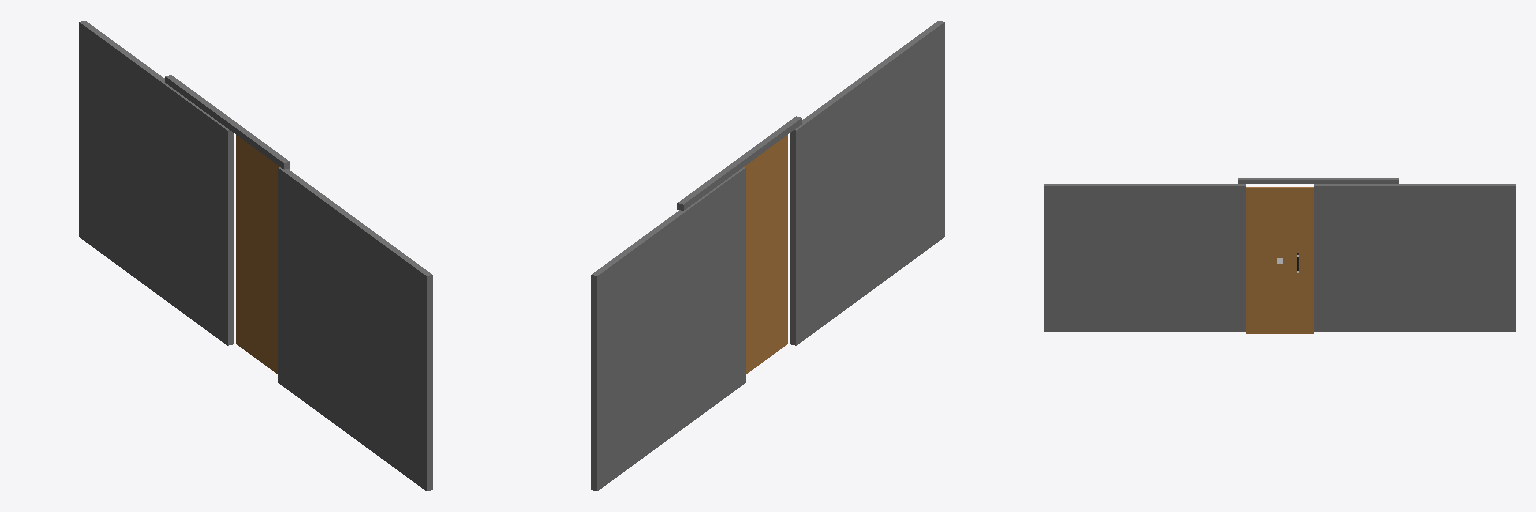
robot.urdf — sliding_door:
<?xml version="1.0"?>
<!-- Sliding door: static rail + leaf (prismatic) + fixed pull handle.
     Primitives only (box + cylinder). Import to USD in Isaac Sim.
     - Set slide_frame as FIXED base link on import.
     - Tune resistance via the PhysX joint drive/damping after import
       (this is your "environment stiffness" to randomize).
     Convention: door face normal = +X, slide direction along +Y,
     height along +Z. No latch (handle is rigid).
     Handle diameter unified to 28mm (same as revolute_door's handle_lever)
     for a single gripper geometry across both door types. The grip bar is
     no longer floating in space - it's connected to the door face by two
     26mm standoff rods (top + bottom), like a real bar/pull handle. -->
<robot name="sliding_door">

  <!-- ===================== RAIL / FRAME (static) ===================== -->
  <link name="slide_frame">
    <visual>
      <origin xyz="0 0.9 2.05" rpy="0 0 0"/>
      <geometry><box size="0.06 2.0 0.06"/></geometry>
      <material name="frame_grey"><color rgba="0.5 0.5 0.5 1"/></material>
    </visual>
    <collision>
      <origin xyz="0 0.9 2.05" rpy="0 0 0"/>
      <geometry><box size="0.06 2.0 0.06"/></geometry>
    </collision>
    <inertial>
      <origin xyz="0 0.9 2.05"/>
      <mass value="30"/>
      <inertia ixx="10" iyy="0.02" izz="10" ixy="0" ixz="0" iyz="0"/>
    </inertial>
  </link>

  <!-- ===================== DOOR LEAF ===================== -->
  <link name="door_leaf">
    <visual>
      <origin xyz="0 0.425 1.0" rpy="0 0 0"/>
      <geometry><box size="0.04 0.85 2.0"/></geometry>
      <material name="door_wood"><color rgba="0.72 0.52 0.30 1"/></material>
    </visual>
    <collision>
      <origin xyz="0 0.425 1.0" rpy="0 0 0"/>
      <geometry><box size="0.04 0.85 2.0"/></geometry>
    </collision>
    <inertial>
      <origin xyz="0 0.425 1.0"/>
      <mass value="15"/>
      <inertia ixx="5.90" iyy="5.00" izz="0.91" ixy="0" ixz="0" iyz="0"/>
    </inertial>
  </link>

  <!-- Slide: horizontal prismatic axis (Y). This is what "opens". -->
  <joint name="slide_joint" type="prismatic">
    <parent link="slide_frame"/>
    <child link="door_leaf"/>
    <origin xyz="0.07 0 0" rpy="0 0 0"/>
    <axis xyz="0 1 0"/>
    <limit lower="0.0" upper="1.0" effort="200" velocity="1.0"/>
    <dynamics damping="8.0" friction="0.2"/>
  </joint>

  <!-- ===================== FIXED PULL HANDLE (drska) ===================== -->
  <!-- Vertical grip bar (radius 0.014 = 28mm dia, same as revolute door's
       handle_lever) standing off the door face along +X, held by two
       horizontal standoff rods (radius 0.013 = 26mm dia) connecting it to
       the door surface at local x=0 (= door_leaf front face, since this
       link's own origin coincides with the handle_fixed joint origin
       below). All three cylinders are collision-enabled primitives on the
       SAME rigid link (handle) - physically one welded assembly, no need
       for separate links/joints between grip bar and standoffs. -->
  <link name="handle">
    <!-- grip bar: vertical (default cylinder axis = local Z), centered on
         the handle_fixed joint height, offset 0.07m out from the door -->
    <visual>
      <origin xyz="0.07 0 0" rpy="0 0 0"/>
      <geometry><cylinder radius="0.014" length="0.25"/></geometry>
      <material name="handle_metal"><color rgba="0.2 0.2 0.22 1"/></material>
    </visual>
    <collision>
      <origin xyz="0.07 0 0" rpy="0 0 0"/>
      <geometry><cylinder radius="0.014" length="0.25"/></geometry>
    </collision>

    <!-- top standoff rod: horizontal (rotated Z->X), door face (x=0) to
         grip bar center (x=0.07), near the top end of the grip bar -->
    <visual>
      <origin xyz="0.035 0 0.10" rpy="0 1.5708 0"/>
      <geometry><cylinder radius="0.013" length="0.07"/></geometry>
      <material name="handle_metal"><color rgba="0.2 0.2 0.22 1"/></material>
    </visual>
    <collision>
      <origin xyz="0.035 0 0.10" rpy="0 1.5708 0"/>
      <geometry><cylinder radius="0.013" length="0.07"/></geometry>
    </collision>

    <!-- bottom standoff rod: same as above, mirrored to the bottom end -->
    <visual>
      <origin xyz="0.035 0 -0.10" rpy="0 1.5708 0"/>
      <geometry><cylinder radius="0.013" length="0.07"/></geometry>
      <material name="handle_metal"><color rgba="0.2 0.2 0.22 1"/></material>
    </visual>
    <collision>
      <origin xyz="0.035 0 -0.10" rpy="0 1.5708 0"/>
      <geometry><cylinder radius="0.013" length="0.07"/></geometry>
    </collision>

    <!-- Combined placeholder inertial for all three pieces (one welded
         steel-tube assembly); as with the rest of this file, let Isaac Sim
         recompute from geometry + density if you prefer. -->
    <inertial>
      <origin xyz="0.07 0 0"/>
      <mass value="0.35"/>
      <inertia ixx="1.7e-3" iyy="1.7e-3" izz="3.5e-5" ixy="0" ixz="0" iyz="0"/>
    </inertial>
  </link>

  <joint name="handle_fixed" type="fixed">
    <parent link="door_leaf"/>
    <child link="handle"/>
    <origin xyz="0.02 0.65 1.0" rpy="0 0 0"/>
  </joint>

  <!-- ===================== APRILTAG ANCHORS ===================== -->
  <material name="door_tag_material">
    <color rgba="1 1 1 1"/>
    <texture filename="door_tag_id0_tag36h11.png"/>
  </material>
  <material name="handle_tag_a_material">
    <color rgba="1 1 1 1"/>
    <texture filename="handle_tag_a_id0_tag16h5.png"/>
  </material>
  <material name="handle_tag_b_material">
    <color rgba="1 1 1 1"/>
    <texture filename="handle_tag_b_id1_tag16h5.png"/>
  </material>

  <!-- Big tag, door center - identical door_leaf geometry as revolute door. -->
  <link name="door_tag_center">
    <visual>
      <geometry><mesh filename="../meshes/tags/tag_quad.obj" scale="0.08 0.08 1"/></geometry>
      <material name="door_tag_material"/>
    </visual>
    <inertial>
      <origin xyz="0 0 0"/>
      <mass value="0.001"/>
      <inertia ixx="1e-8" iyy="1e-8" izz="1e-8" ixy="0" ixz="0" iyz="0"/>
    </inertial>
  </link>
  <joint name="door_tag_center_joint" type="fixed">
    <parent link="door_leaf"/>
    <child link="door_tag_center"/>
    <origin xyz="0.021 0.425 1.0" rpy="0 1.5708 0"/>
  </joint>

  <!-- Small tags, grip bar ends (bar centered at local x=0.07, spans z: -0.125..0.125). -->
  <link name="handle_tag_a">
    <visual>
      <geometry><mesh filename="../meshes/tags/tag_quad.obj" scale="0.025 0.025 1"/></geometry>
      <material name="handle_tag_a_material"/>
    </visual>
    <inertial>
      <origin xyz="0 0 0"/>
      <mass value="0.001"/>
      <inertia ixx="1e-8" iyy="1e-8" izz="1e-8" ixy="0" ixz="0" iyz="0"/>
    </inertial>
  </link>
  <joint name="handle_tag_a_joint" type="fixed">
    <parent link="handle"/>
    <child link="handle_tag_a"/>
    <origin xyz="0.086 0 -0.11" rpy="0 1.5708 0"/>
  </joint>

  <link name="handle_tag_b">
    <visual>
      <geometry><mesh filename="../meshes/tags/tag_quad.obj" scale="0.025 0.025 1"/></geometry>
      <material name="handle_tag_b_material"/>
    </visual>
    <inertial>
      <origin xyz="0 0 0"/>
      <mass value="0.001"/>
      <inertia ixx="1e-8" iyy="1e-8" izz="1e-8" ixy="0" ixz="0" iyz="0"/>
    </inertial>
  </link>
  <joint name="handle_tag_b_joint" type="fixed">
    <parent link="handle"/>
    <child link="handle_tag_b"/>
    <origin xyz="0.086 0 0.11" rpy="0 1.5708 0"/>
  </joint>

  <!-- ===================== WALLS (left/right) ============================
       Lijevi zid je U RAVNINI vrata (x=0, isto kao kod zakretnih vrata) -
       krilo nikad ne ide na y<0 (donja granica slide_jointa je 0), pa tu
       nema rizika od sudara i flush spoj je ispravan.
       Desni zid je odmaknut 0.02 m iza straznje plohe krila (x=-0.02),
       centar x=-0.07 - to je strana u koju krilo ULAZI kad se otvara, i
       tu odmak mora ostati (krilo+rucka imaju x-raspon do 0.104 koji je
       konstantan bez obzira na poziciju klizanja). Duljina svakog zida
       2.5 m, Y-pozicije rub na 0 i na 0.85 (isto kao kod zakretnih
       vrata) - slobodan prolaz ostaje 0.85 m. -->

  <link name="wall_left">
    <visual>
      <origin xyz="0 -1.25 1.0" rpy="0 0 0"/>
      <geometry><box size="0.06 2.5 2.0"/></geometry>
      <material name="frame_grey"/>
    </visual>
    <collision>
      <origin xyz="0 -1.25 1.0" rpy="0 0 0"/>
      <geometry><box size="0.06 2.5 2.0"/></geometry>
    </collision>
    <inertial>
      <origin xyz="0 -1.25 1.0"/>
      <mass value="100"/>
      <inertia ixx="85.4" iyy="33.4" izz="52.1" ixy="0" ixz="0" iyz="0"/>
    </inertial>
  </link>

  <joint name="wall_left_joint" type="fixed">
    <parent link="slide_frame"/>
    <child link="wall_left"/>
    <origin xyz="0 0 0" rpy="0 0 0"/>
  </joint>

  <link name="wall_right">
    <visual>
      <origin xyz="0 2.10 1.0" rpy="0 0 0"/>
      <geometry><box size="0.06 2.5 2.0"/></geometry>
      <material name="frame_grey"/>
    </visual>
    <collision>
      <origin xyz="0 2.10 1.0" rpy="0 0 0"/>
      <geometry><box size="0.06 2.5 2.0"/></geometry>
    </collision>
    <inertial>
      <origin xyz="0 2.10 1.0"/>
      <mass value="100"/>
      <inertia ixx="85.4" iyy="33.4" izz="52.1" ixy="0" ixz="0" iyz="0"/>
    </inertial>
  </link>

  <joint name="wall_right_joint" type="fixed">
    <parent link="slide_frame"/>
    <child link="wall_right"/>
    <origin xyz="0 0 0" rpy="0 0 0"/>
  </joint>

</robot>

--- What the picture shows (computed from the rendered views, not written in the file) ---
Views: 3 orthographic renders of the robot side by side, from view 1: azimuth 30°, elevation 25°; view 2: azimuth 150°, elevation 25°; view 3: azimuth 270°, elevation 25°.
Model sliding_door with 8 links and 7 joints (1 prismatic, 6 fixed), rooted at slide_frame, posed every joint at zero.
Links seen in each view (by area): view 1: wall_left, wall_right, door_leaf, slide_frame; view 2: wall_left, wall_right, door_leaf, slide_frame; view 3: wall_left, wall_right, door_leaf, slide_frame.
Boxes of the visible links, <box> form: wall_left: <box>278,167,432,490</box>; wall_right: <box>79,21,233,345</box>; door_leaf: <box>236,135,289,373</box>; slide_frame: <box>165,75,289,169</box>; wall_left: <box>790,21,944,345</box>; wall_right: <box>591,167,745,490</box>; door_leaf: <box>744,135,787,373</box>; slide_frame: <box>677,116,801,210</box>; wall_left: <box>1044,184,1245,331</box>; wall_right: <box>1314,184,1515,331</box>; door_leaf: <box>1246,187,1313,333</box>; slide_frame: <box>1238,178,1398,183</box>.
Size in the robot's own frame: 0.206 by 5.85 by 2.08 metres.
Meshes: 1 distinct files referenced, 3 mesh visuals loaded (1 OBJ).
